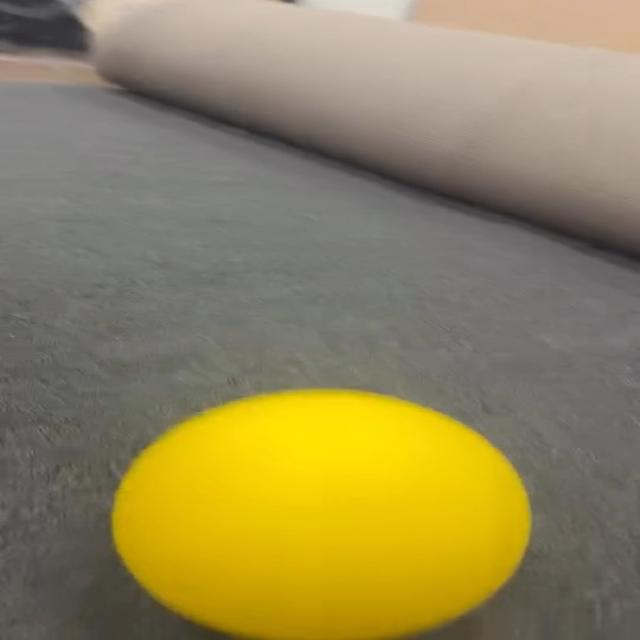Fuels: (111, 389, 529, 635)
